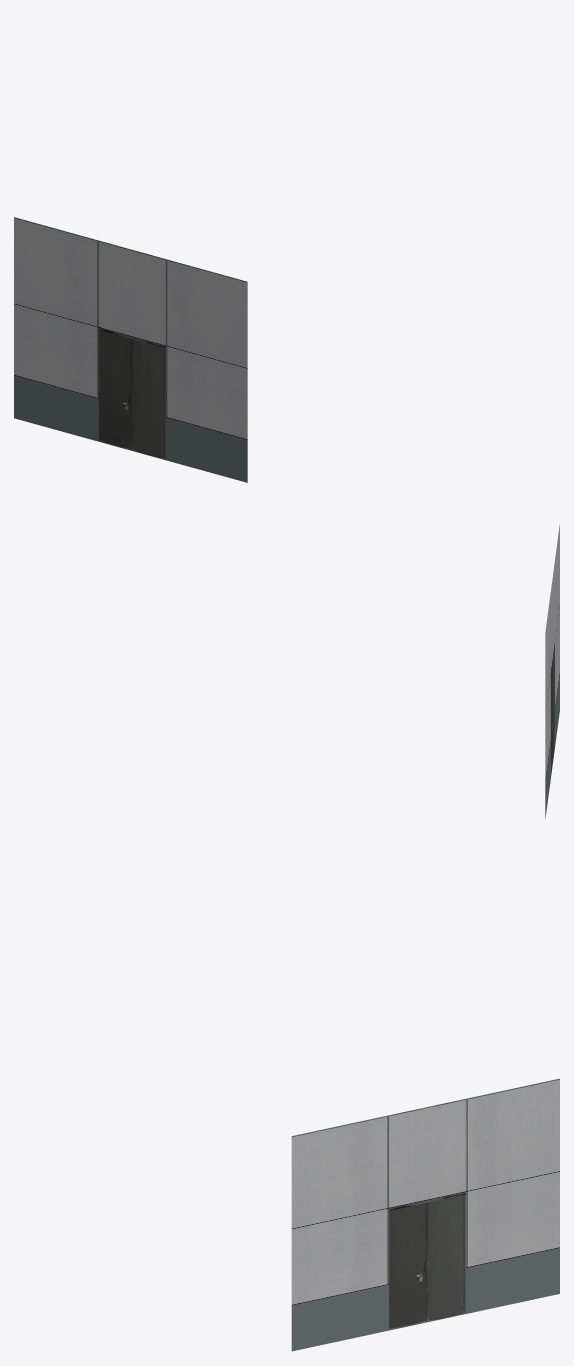
The model's file is myFileName_1094.glb.
3 views of the same model, one above another, from view 1: azimuth 30°, elevation 25°; view 2: azimuth 150°, elevation 25°; view 3: azimuth 270°, elevation 25° (orthographic). The views are drawn at different scales.
Size of the model in its own units: 17.16 by 5.99 by 13.76.
1 material, 1 textured.
